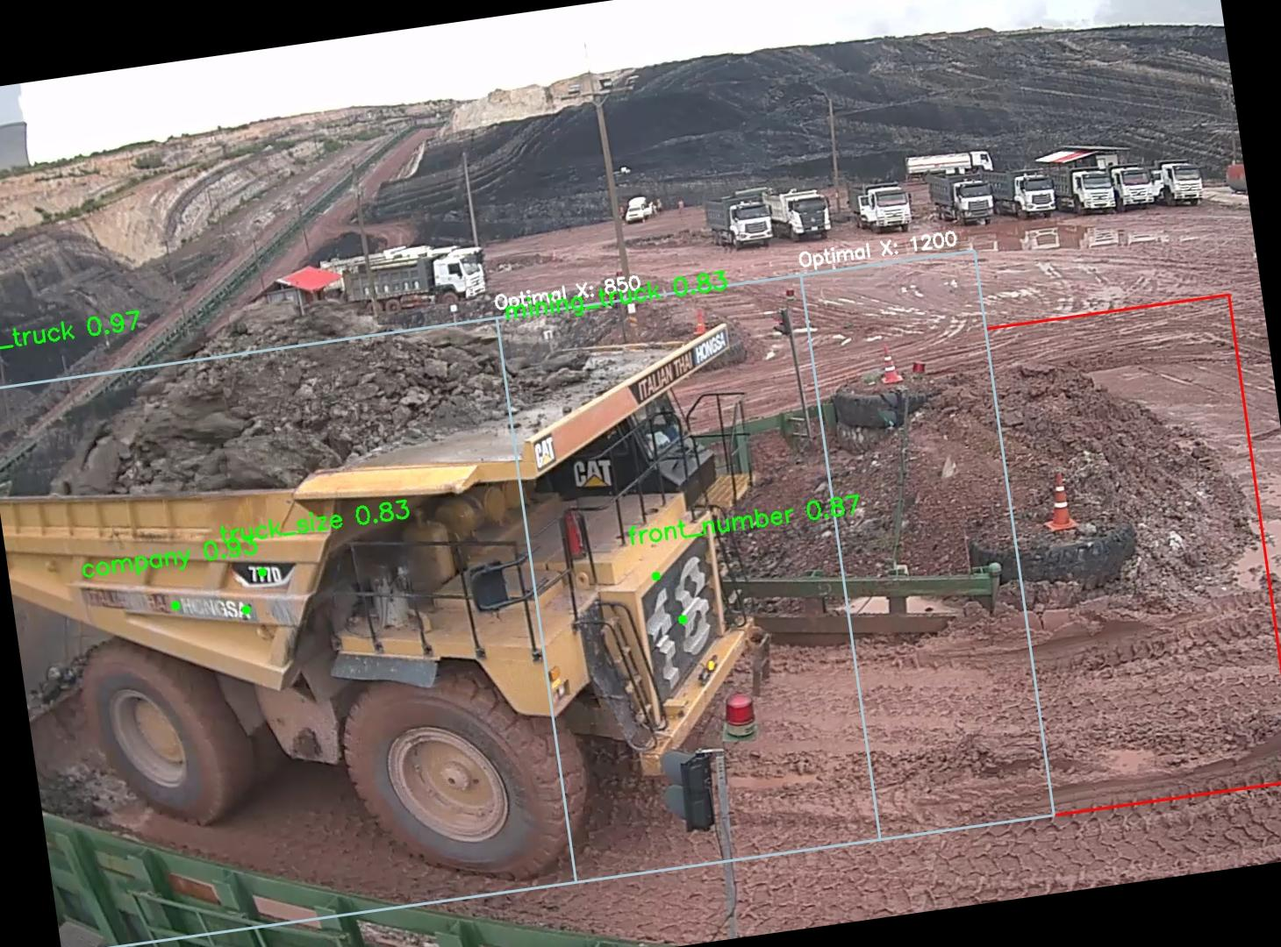company: (64, 552, 251, 654)
full_load: (133, 299, 454, 528)
mining_truck: (0, 208, 819, 936)
truck_size: (220, 544, 297, 596)
